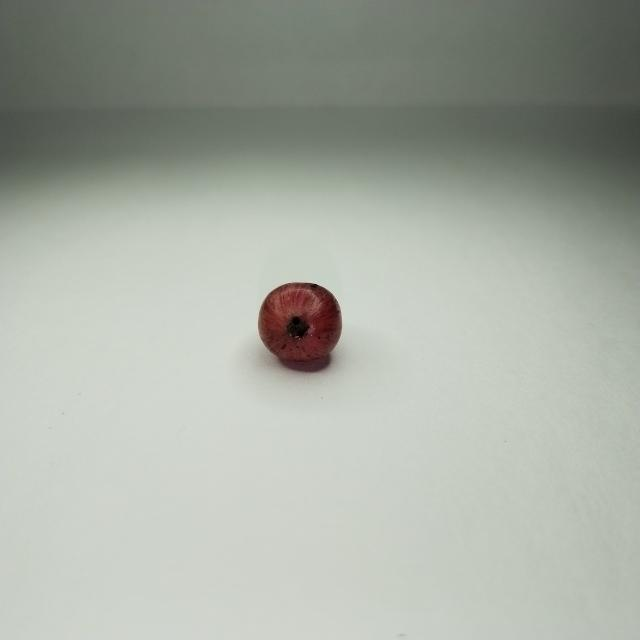Infectado: (259, 283, 343, 367)
